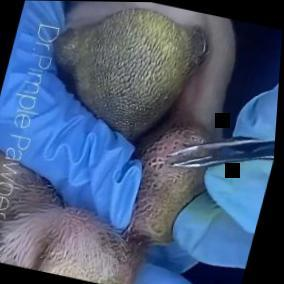keratosis: (40, 1, 216, 146)
